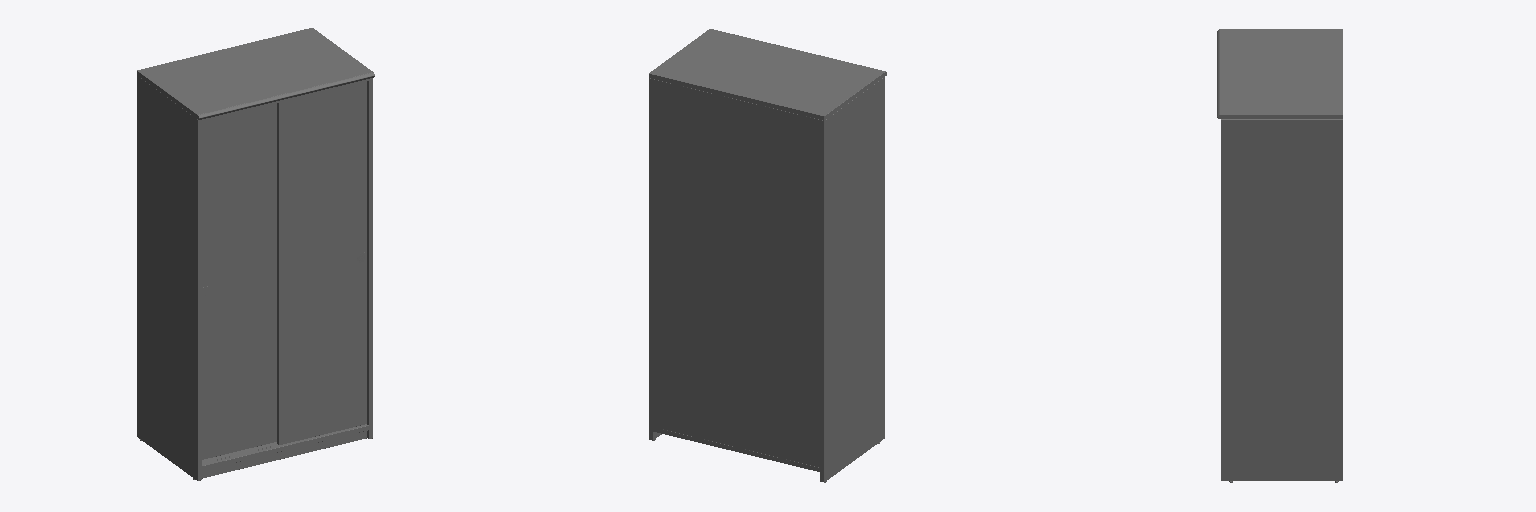
The model's file is Wardrobe.obj.
The picture shows the model from 3 angles: view 1: azimuth 30°, elevation 25°; view 2: azimuth 150°, elevation 25°; view 3: azimuth 270°, elevation 25°; orthographic projection.
Visible parts, largest first — view 1: Wardrobe, UpWardrobe; view 2: Wardrobe; view 3: Wardrobe.
Boxes of the visible parts, box(x1,y1,x2,y2) form: Wardrobe: box(137, 28, 372, 480); UpWardrobe: box(198, 72, 374, 119); Wardrobe: box(649, 29, 884, 482); Wardrobe: box(1221, 29, 1342, 480).
Bounding box in the file's own units: 39.25 × 78.49 × 24.29.